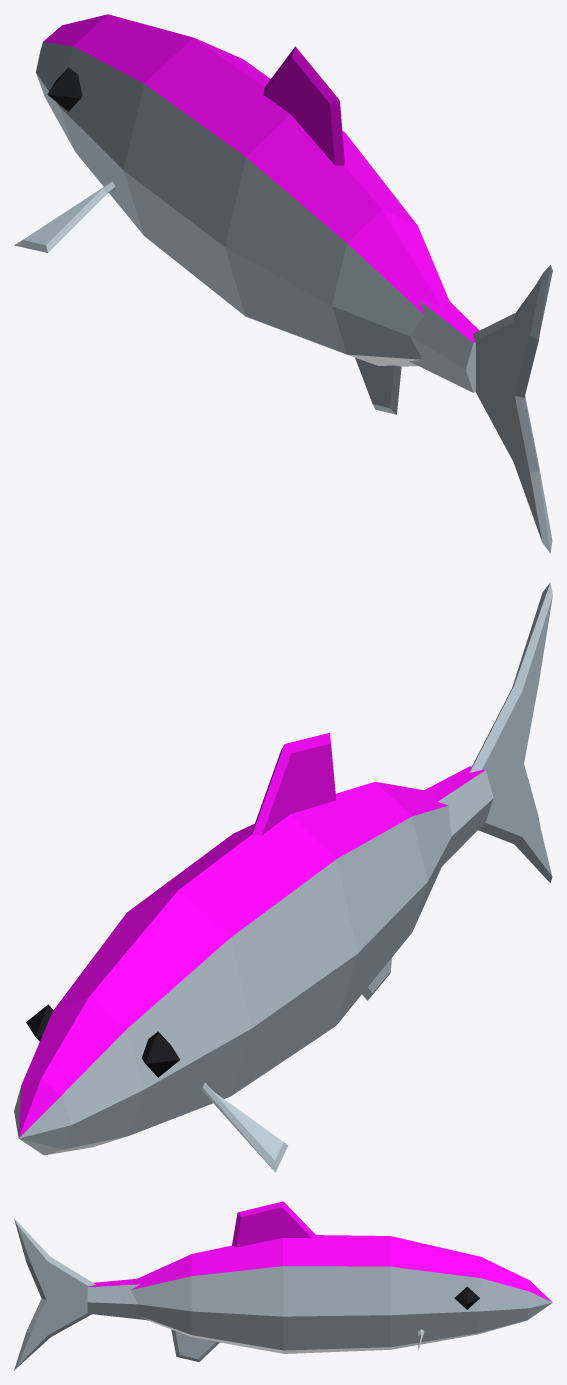
File: fish.glb
The picture shows the model from 3 angles, top to bottom: view 1: azimuth 30°, elevation 25°; view 2: azimuth 150°, elevation 25°; view 3: azimuth 270°, elevation 25°; orthographic projection. The views are drawn at different scales.
Visible parts, largest first — view 1: fish__body, fish__tail; view 2: fish__body, fish__tail; view 3: fish__body, fish__tail.
Part boxes in pixels (x1,y1,x2,y2): fish__body: (14, 14, 449, 414); fish__tail: (409, 265, 552, 553); fish__body: (14, 733, 451, 1172); fish__tail: (424, 582, 552, 882); fish__body: (130, 1201, 552, 1361); fish__tail: (14, 1218, 149, 1370).
Size of the model in its own units: 0.0887 by 0.122 by 0.352.
1 material, 1 textured.
